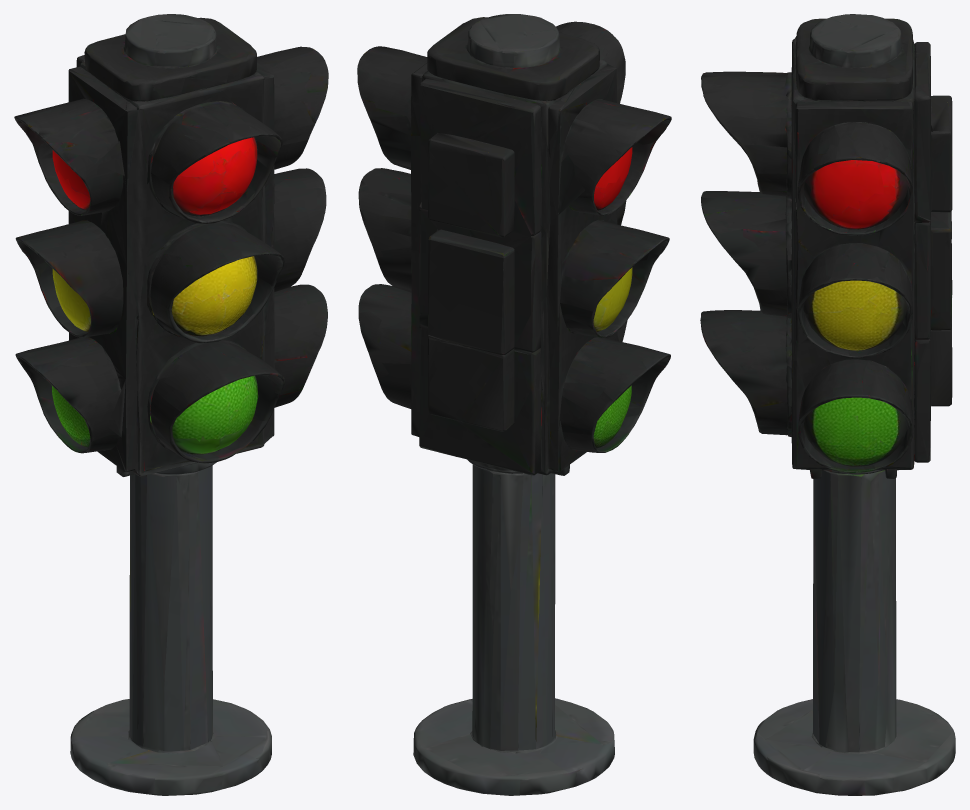
Rendered from upm_mu5vzsey16y.glb.
3 views of the same model, side by side, from view 1: azimuth 30°, elevation 25°; view 2: azimuth 150°, elevation 25°; view 3: azimuth 270°, elevation 25° (orthographic).
Bounding box in the file's own units: 0.8063 × 1.9 × 0.6084.
Materials: 1 (1 with a texture image).
